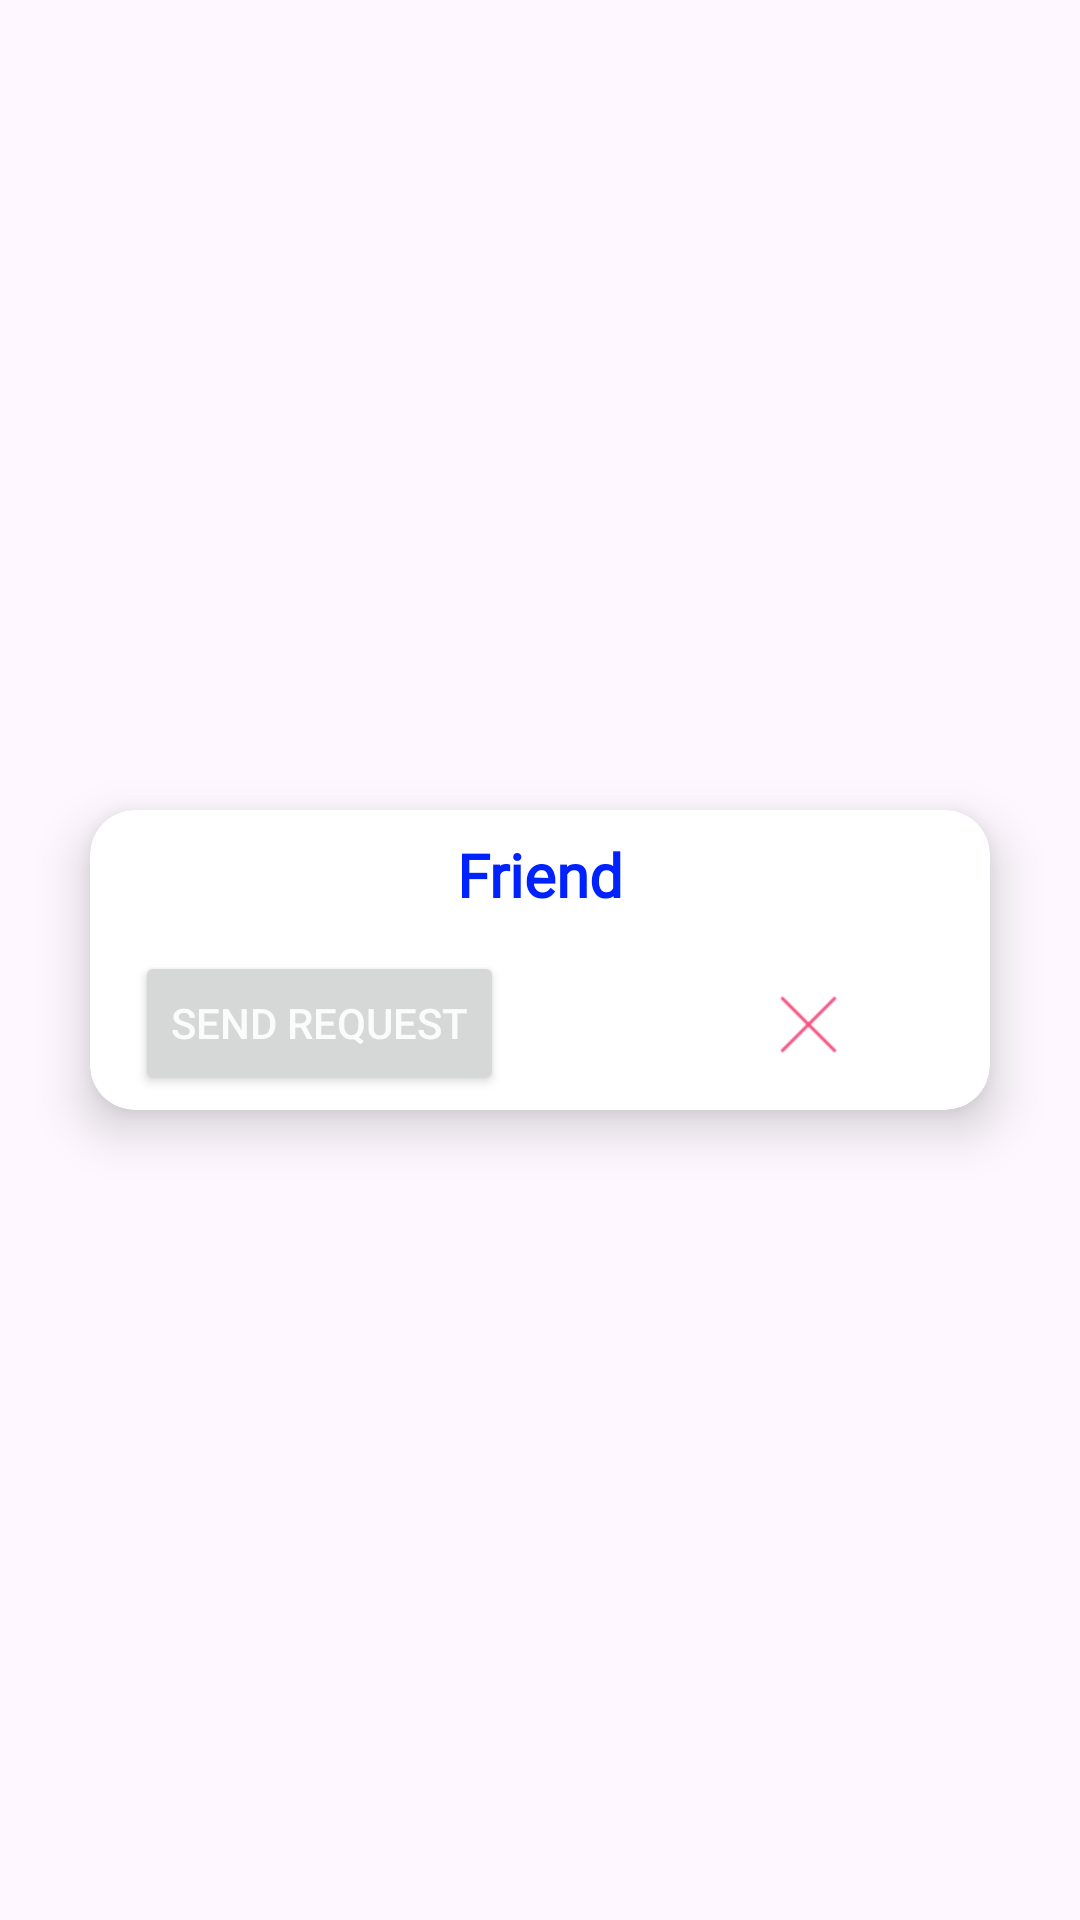

Icons on this 1080×1920 Android screen, each with its box as (x1, y1, x2, y2):
close: (780, 996, 837, 1053)
